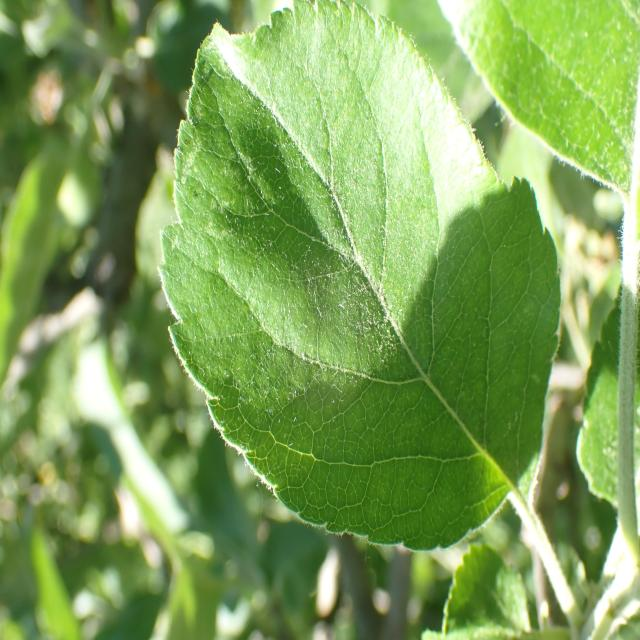healthy: (159, 0, 562, 549), (436, 0, 640, 194), (422, 543, 532, 640)
